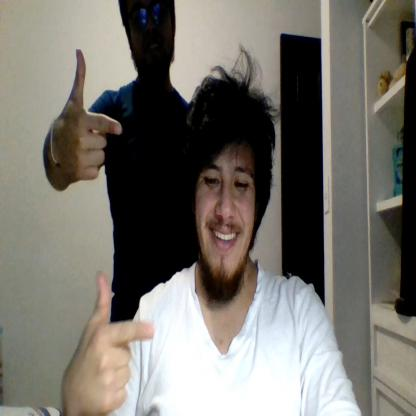G: (73, 271, 154, 415), (59, 47, 123, 180)
